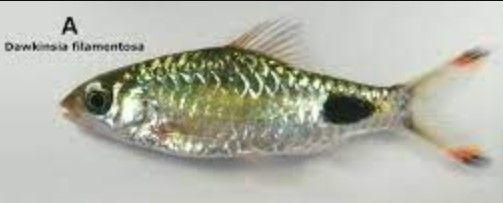Black Spotted Barb: (60, 14, 495, 179)
